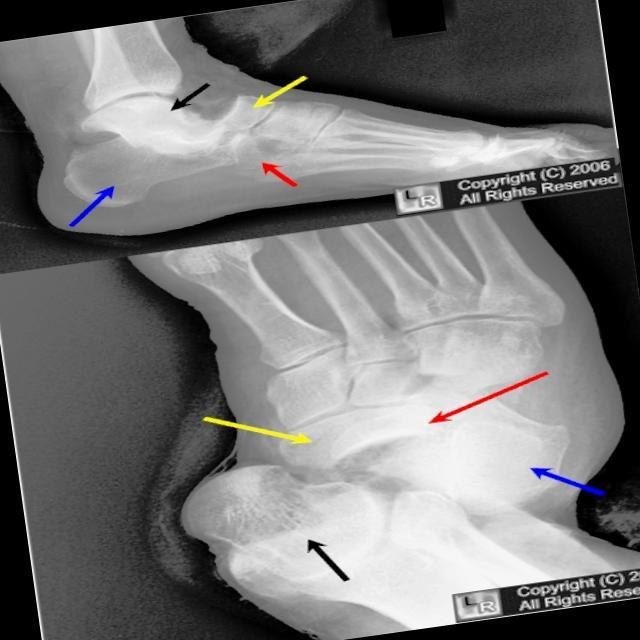Fracture Dislocation: (329, 427, 419, 468), (243, 497, 324, 538), (108, 154, 167, 187), (213, 109, 262, 147), (124, 111, 177, 137)
